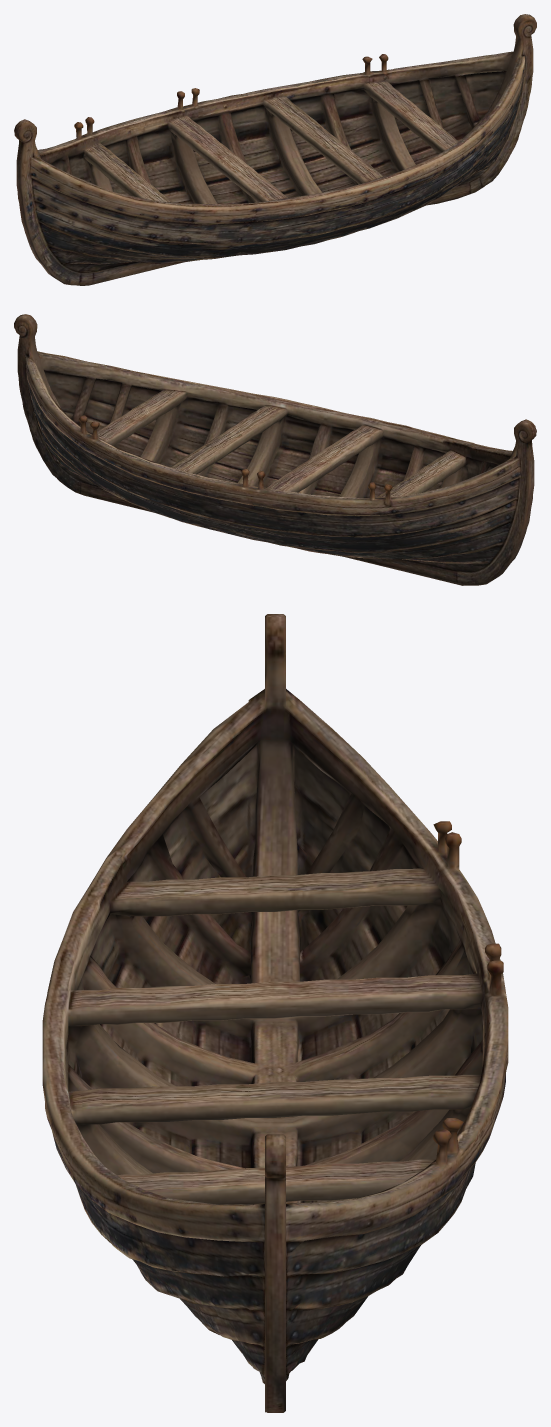
File: kit_sf_boat.glb
3 views of the same model, one above another, from view 1: azimuth 30°, elevation 25°; view 2: azimuth 150°, elevation 25°; view 3: azimuth 270°, elevation 25° (orthographic). The views are drawn at different scales.
Visible parts, largest first — view 1: kit_sf_boat; view 2: kit_sf_boat; view 3: kit_sf_boat.
Boxes of the visible parts, bbox=[...] form: kit_sf_boat: bbox=[14, 14, 536, 285]; kit_sf_boat: bbox=[14, 314, 536, 585]; kit_sf_boat: bbox=[42, 614, 508, 1412].
Size of the model in its own units: 6.4 by 2.14 by 2.49.
1 material, 1 textured.
